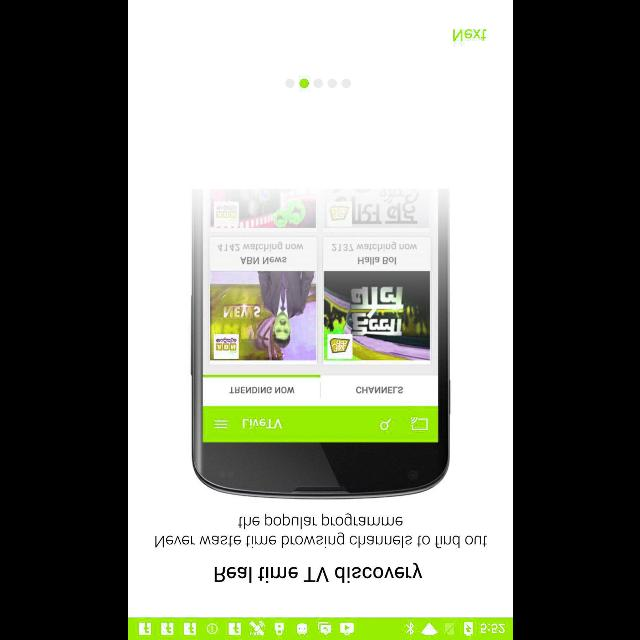image: (190, 189, 450, 499)
pageindicator: (284, 78, 352, 89)
text: (155, 513, 487, 549), (214, 562, 422, 584), (452, 28, 486, 42)
uppertaskbar: (128, 617, 512, 639)
